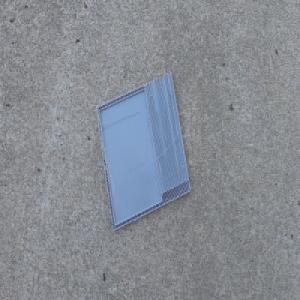PlasticPart: (93, 71, 191, 233)
